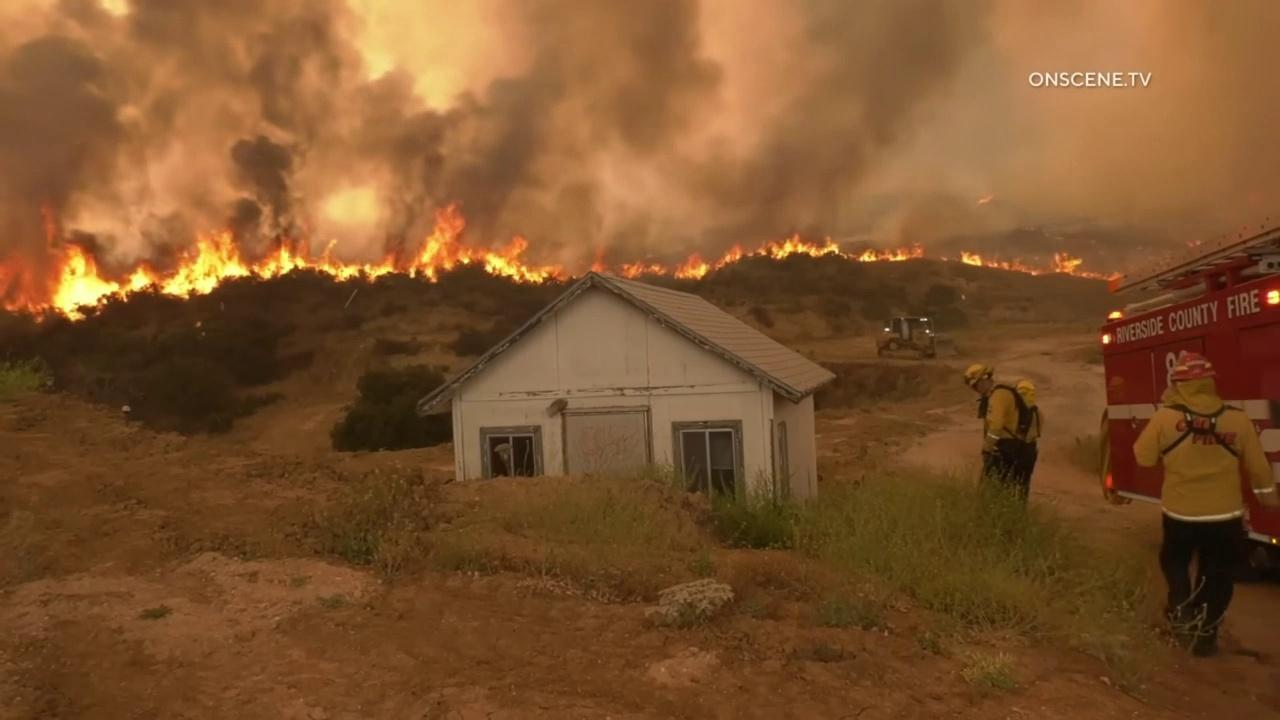fire: (0, 198, 566, 328), (620, 231, 925, 281), (959, 249, 1112, 280), (590, 244, 610, 273), (975, 192, 994, 204), (195, 319, 202, 329), (939, 255, 949, 261)
smoke: (0, 0, 1280, 274)
